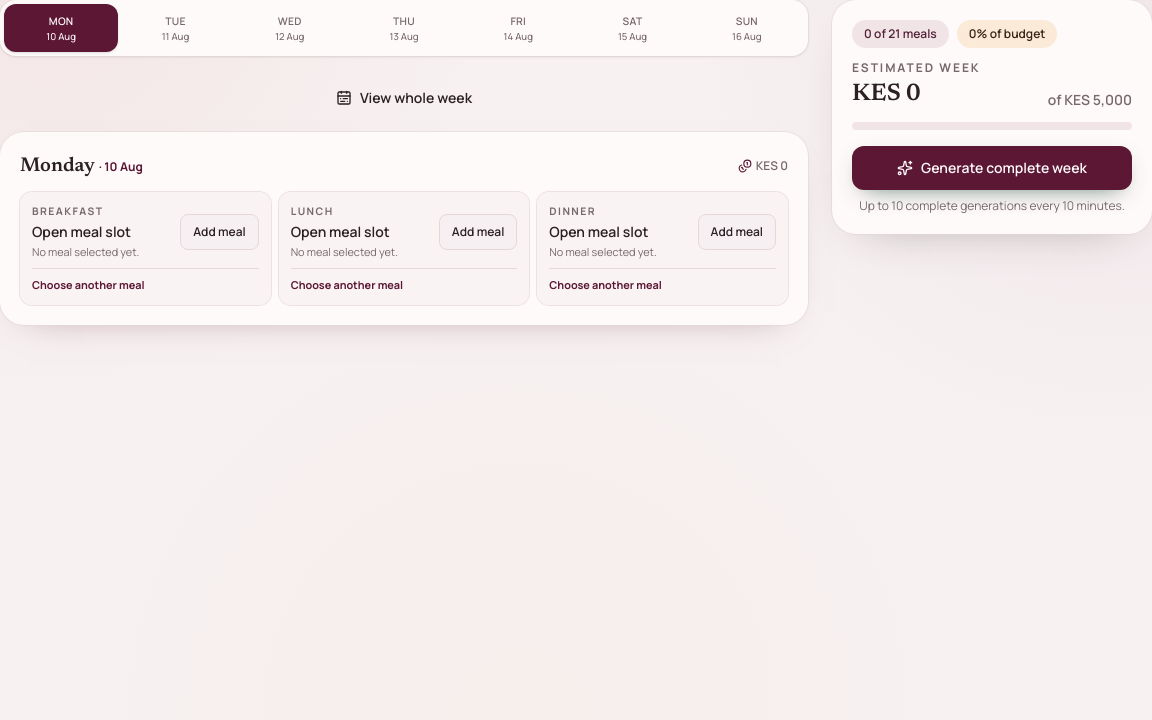
it: WeeklyPlanBoard › keeps one mobile day editable and offers a condensed whole-week view
Expected: the heading "Monday · 10 Aug" is shown, [20,152,143,180]
Expected: the text "Open meal slot" is shown 3 times, [32,222,139,242]; [291,222,398,242]; [549,222,657,242]
Click the button "Tue 11 Aug".
click(175, 28)  # box [118,4,233,52]
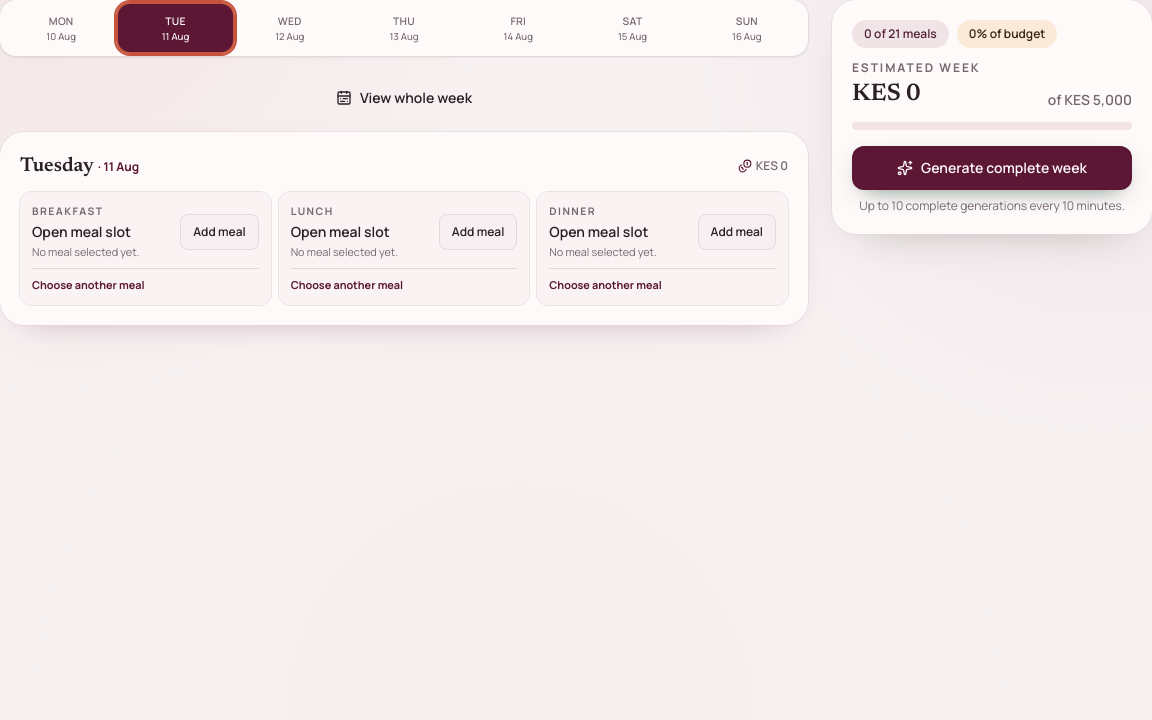
Now the heading "Tuesday · 11 Aug" is shown, box [20,152,139,180]
Click the button "View whole week".
click(404, 98)  # box [0,76,808,120]
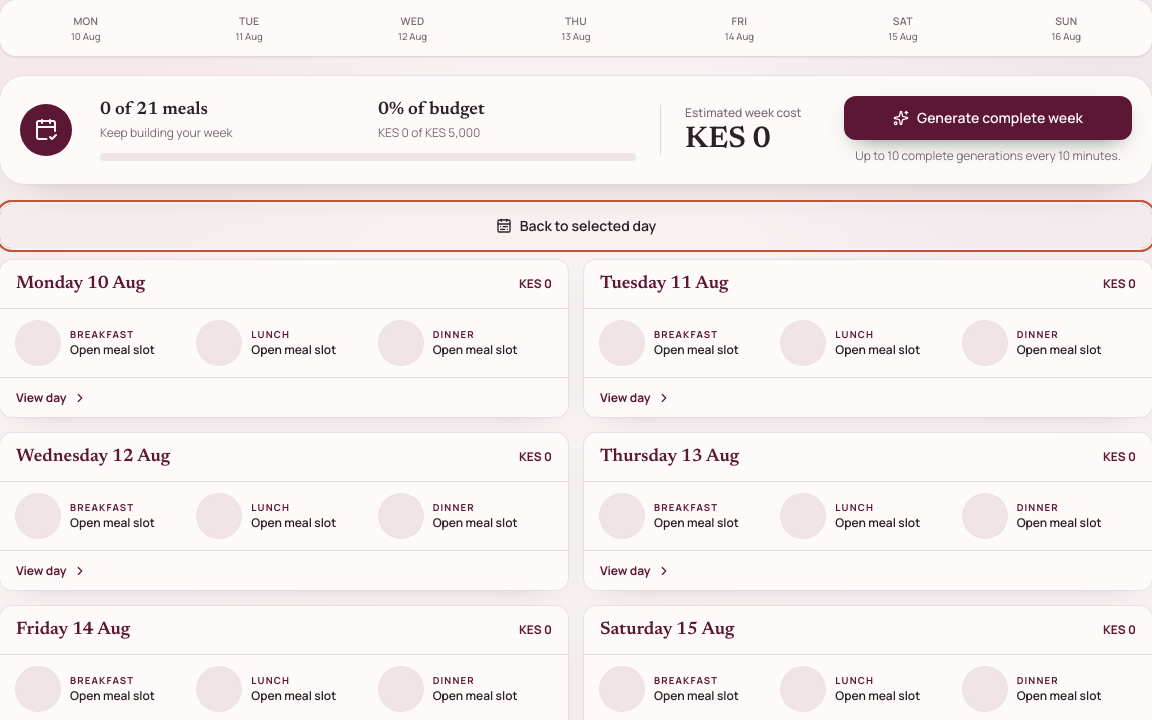
Expected: the button "Generate complete week" is enabled, [844,96,1132,140]
Now the button "Back to selected day" is shown, box [0,204,1151,248]
